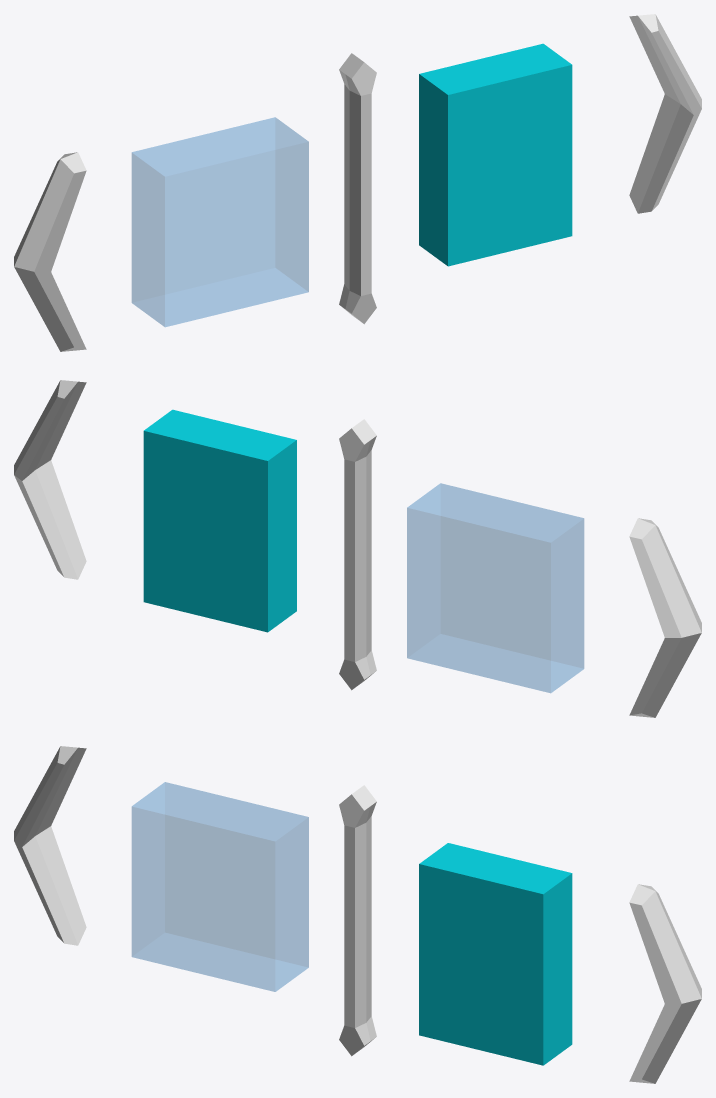
The model's file is SimpleUI.fbx.
3 views of the same model, one above another, from view 1: azimuth 30°, elevation 25°; view 2: azimuth 150°, elevation 25°; view 3: azimuth 330°, elevation 25° (orthographic).
Visible parts, largest first — view 1: Speed-Simple, Directions-Simple, SideBars-Simple, MiddleSeperator; view 2: Speed-Simple, Directions-Simple, SideBars-Simple, MiddleSeperator; view 3: Speed-Simple, Directions-Simple, SideBars-Simple, MiddleSeperator.
Part boxes in pixels (x1,y1,x2,y2): Speed-Simple: [131, 117, 308, 327]; Directions-Simple: [419, 43, 572, 266]; SideBars-Simple: [14, 14, 701, 351]; MiddleSeperator: [339, 53, 376, 324]; Speed-Simple: [407, 483, 584, 693]; Directions-Simple: [143, 409, 296, 632]; SideBars-Simple: [14, 380, 701, 717]; MiddleSeperator: [339, 419, 376, 690]; Speed-Simple: [131, 782, 308, 991]; Directions-Simple: [419, 843, 572, 1065]; SideBars-Simple: [14, 746, 701, 1083]; MiddleSeperator: [339, 785, 376, 1056].
Size of the model in its own units: 549 by 200 by 46.31.
